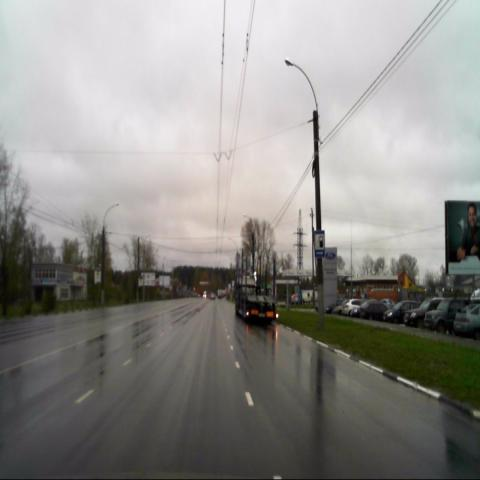7_3: (314, 231, 325, 256)
